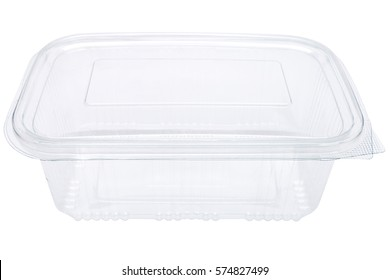PlasticBox: (1, 29, 390, 225)
